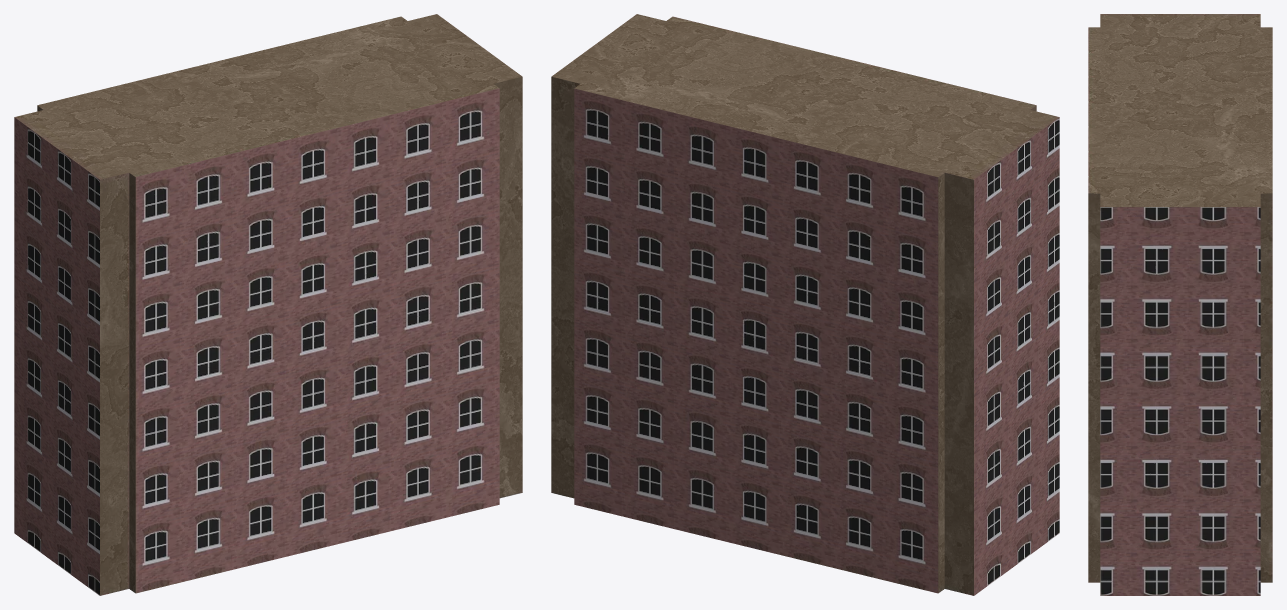
The model's file is la-tower-e.glb.
3 renders of one model, left to right at view 1: azimuth 30°, elevation 25°; view 2: azimuth 150°, elevation 25°; view 3: azimuth 270°, elevation 25°, orthographic. The views are drawn at different scales.
Visible parts, largest first — view 1: tower-e; view 2: tower-e; view 3: tower-e.
Part boxes in pixels (<box>): tower-e: <box>14,14,522,595</box>; tower-e: <box>551,14,1059,595</box>; tower-e: <box>1088,14,1272,595</box>.
Size of the model in its own units: 149 by 140 by 60.07.
1 material, 1 textured.
